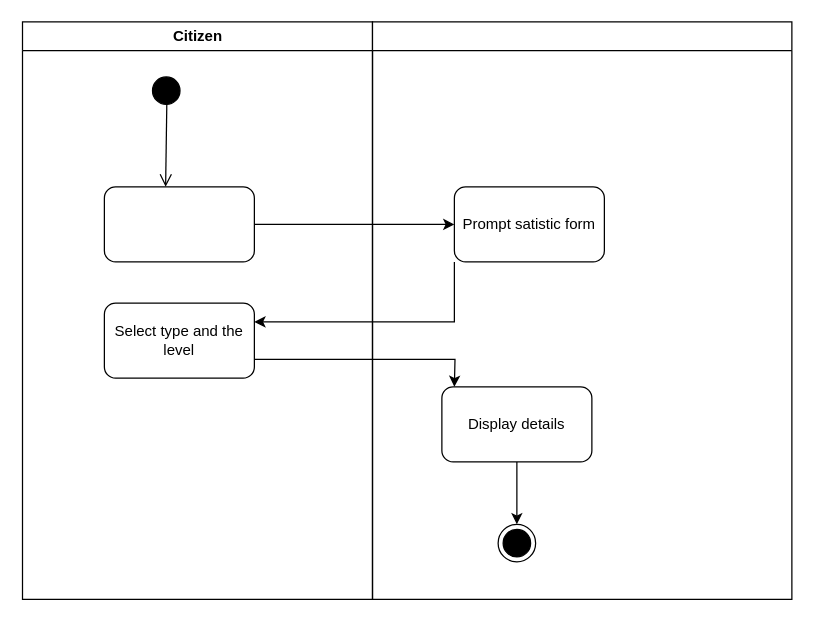
Some shapes in this 814 by 621 pixel diagram are drawn without their labels. Each missing label, with the box of its shape:
Request for patient statistic: (103, 186, 254, 262)
System: (371, 21, 792, 599)
